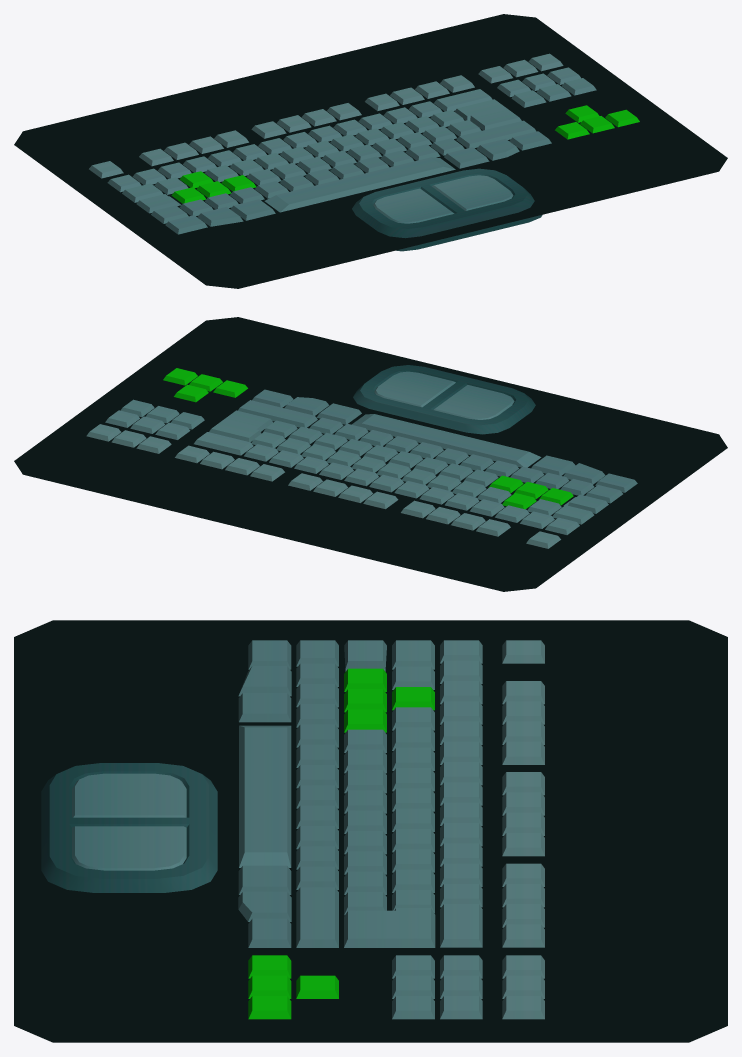
The model's file is Container_10_Storage.fbx.
3 views of the same model, one above another, from view 1: azimuth 30°, elevation 25°; view 2: azimuth 150°, elevation 25°; view 3: azimuth 270°, elevation 25° (orthographic). The views are drawn at different scales.
Visible parts, largest first — view 1: Container_10_Storage; view 2: Container_10_Storage; view 3: Container_10_Storage.
Part boxes in pixels (bbox=[...]): Container_10_Storage: bbox=[14, 14, 727, 288]; Container_10_Storage: bbox=[14, 317, 727, 591]; Container_10_Storage: bbox=[14, 620, 727, 1042].
Bounding box in the file's own units: 60.78 × 1.67 × 43.44.
